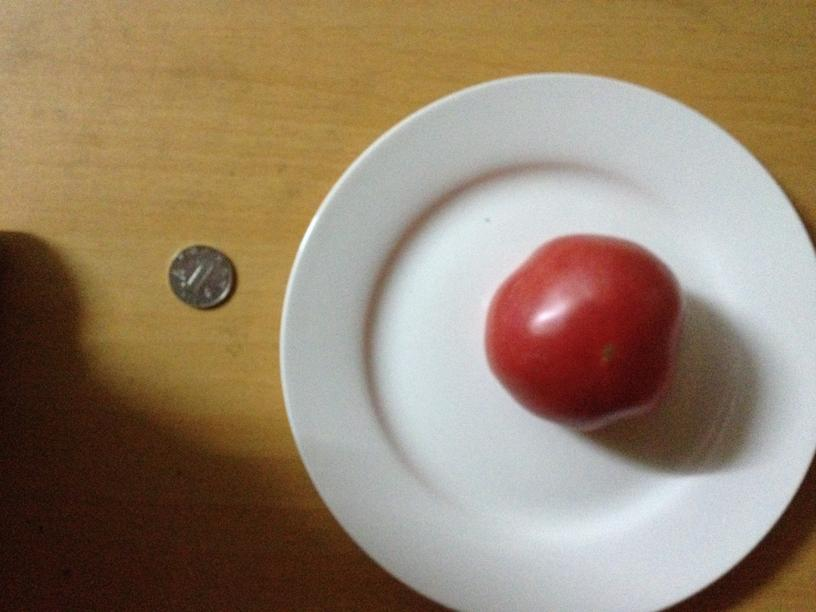coin: (163, 244, 235, 309)
tomato: (482, 233, 685, 429)
